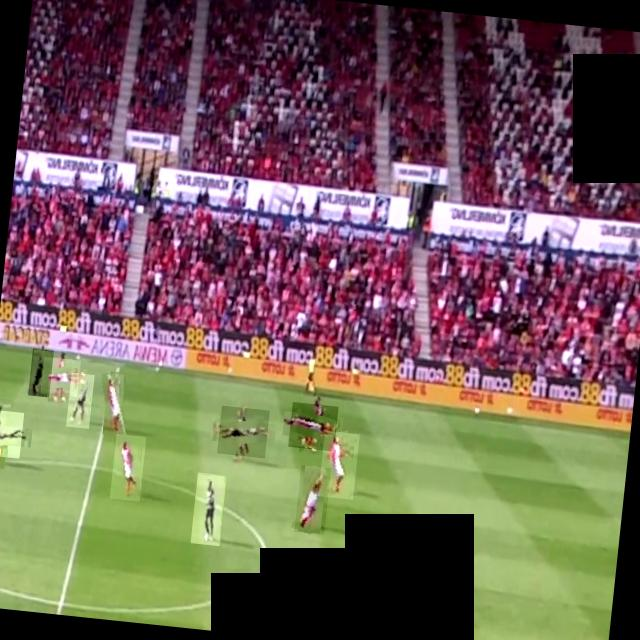referee: (0, 409, 24, 458)
soccer-player: (274, 563, 340, 630), (318, 430, 360, 499), (217, 405, 270, 458), (190, 472, 226, 546), (294, 464, 330, 534), (109, 433, 146, 501), (288, 402, 338, 452), (98, 371, 130, 436), (40, 356, 80, 397), (66, 372, 94, 428), (28, 348, 54, 397)
